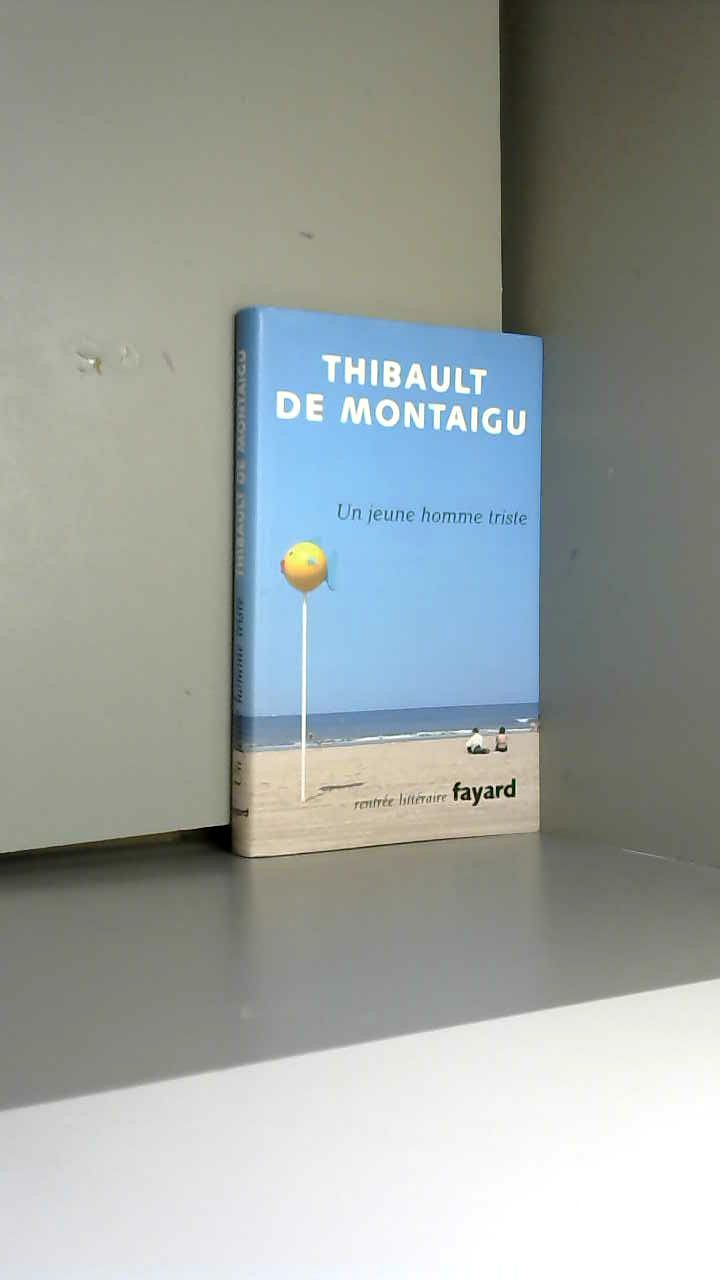book: (204, 285, 571, 877)
